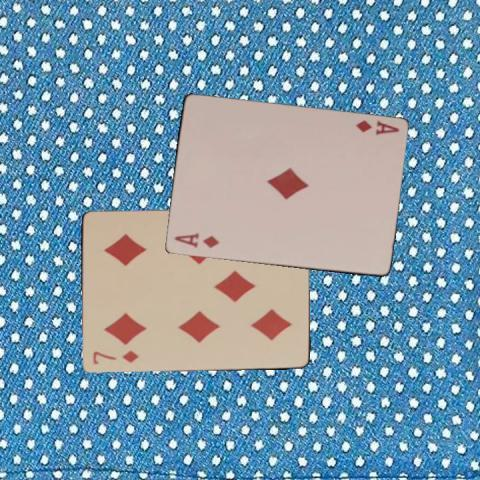7d: (90, 348, 140, 366)
Ad: (352, 117, 400, 137), (170, 231, 220, 249)
